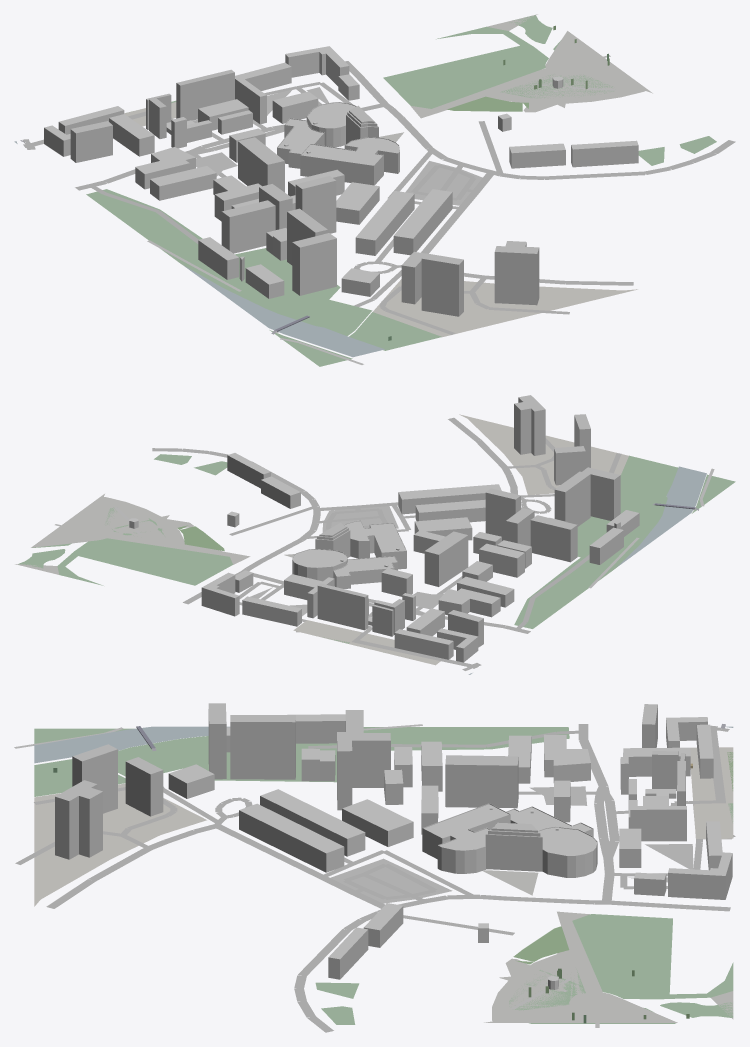
The picture shows the model from 3 angles, top to bottom: view 1: azimuth 30°, elevation 25°; view 2: azimuth 150°, elevation 25°; view 3: azimuth 270°, elevation 25°; orthographic projection. The views are drawn at different scales.
Bounding box in the file's own units: 516 × 48.51 × 516.
